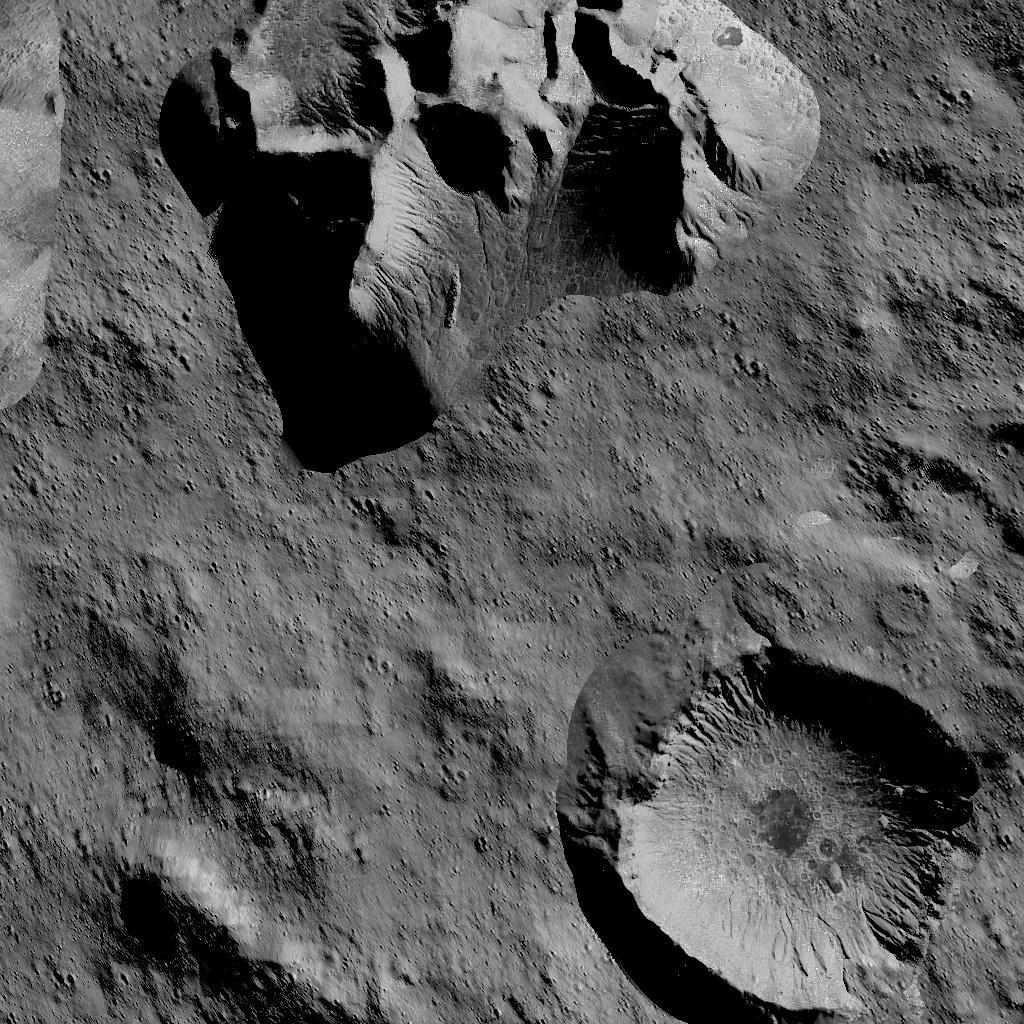Boulders: (160, 0, 826, 479), (95, 836, 369, 1024), (2, 0, 68, 440)
Crater: (560, 632, 1010, 1024), (856, 434, 1024, 572), (144, 692, 226, 792)
Plan surface: (252, 502, 528, 812), (841, 0, 1024, 400), (6, 494, 234, 676), (544, 490, 828, 612)
